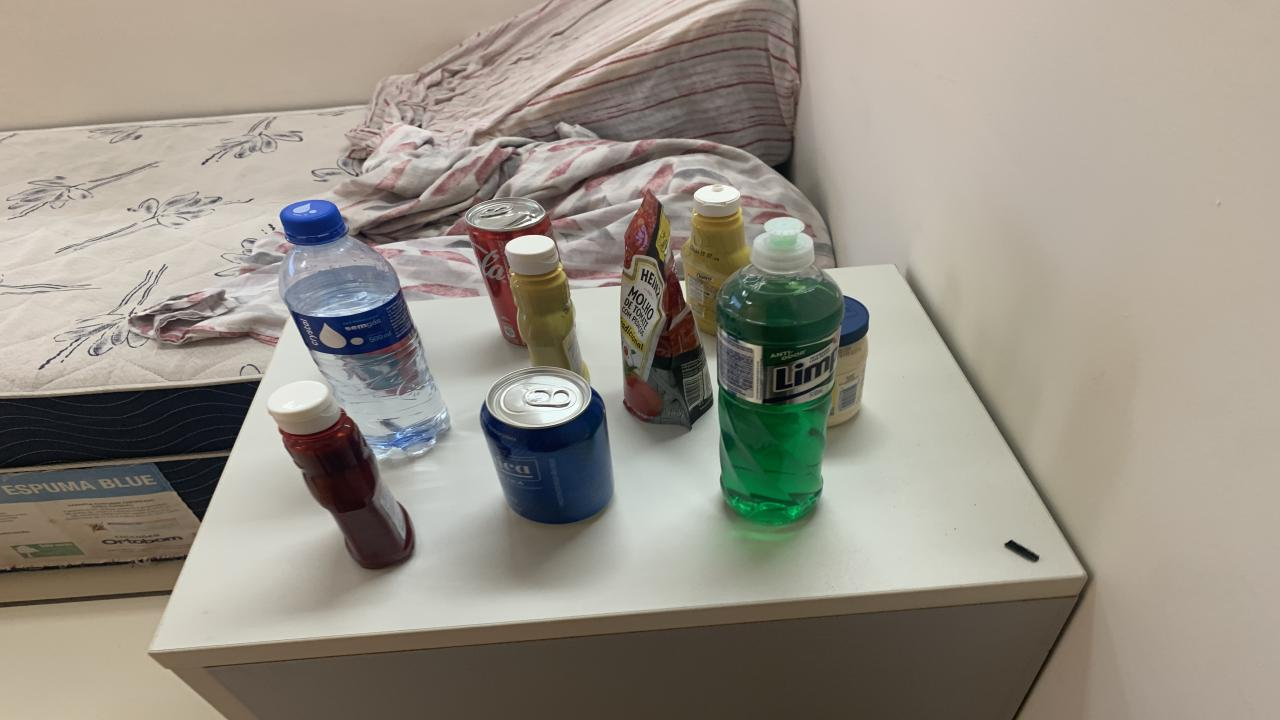Coke-Drinks: (465, 197, 552, 345)
Detergent-Cleanup_Items: (715, 218, 845, 523)
Ketchup-Pantry_Items: (268, 381, 415, 568)
Mayonnaise-Pantry_Items: (828, 296, 870, 426)
Mustard-Pantry_Items: (505, 234, 585, 377), (680, 184, 750, 334)
Tomato_Sauce-Pantry_Items: (620, 191, 712, 428)
Tonic-Drinks: (480, 368, 612, 523)
Water_Bottle-Drinks: (278, 199, 450, 456)
